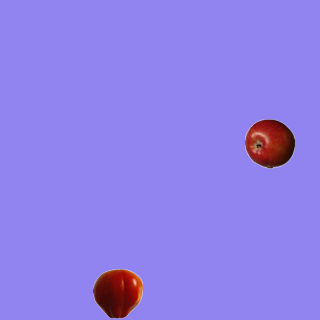Apple Braeburn: (244, 118, 294, 168)
Tomato 1: (92, 268, 142, 318)
